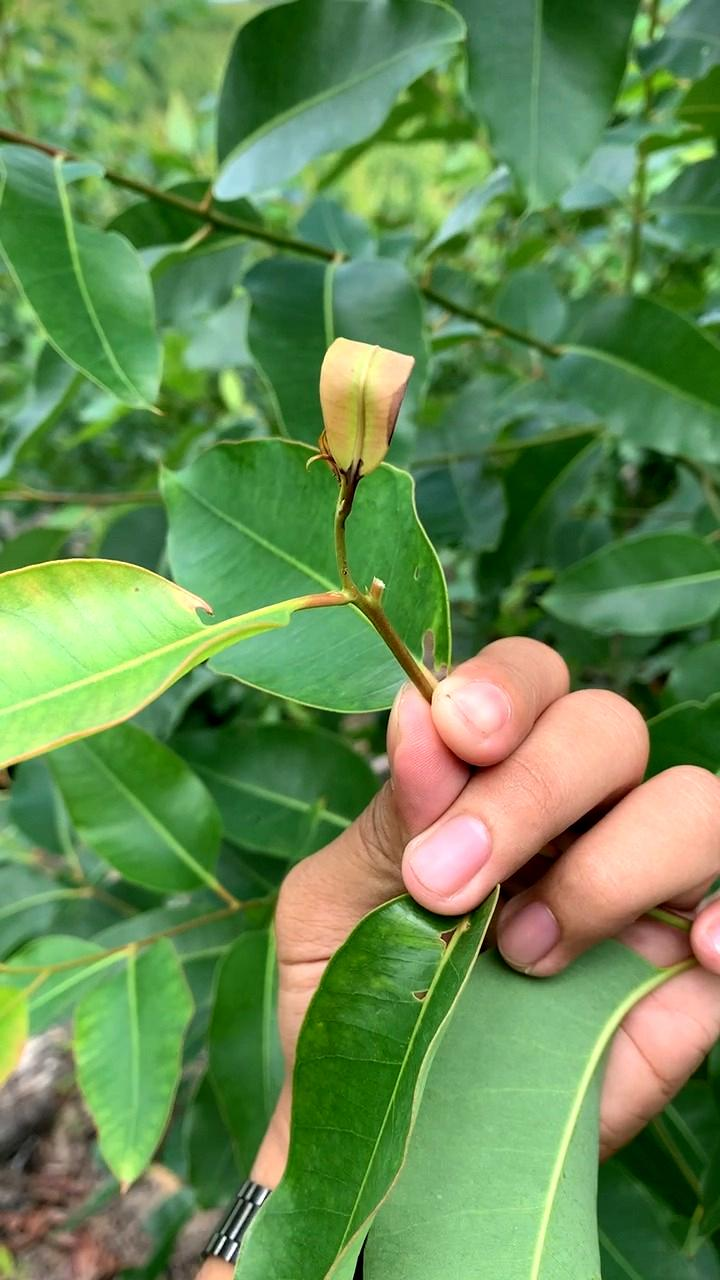Helopeltis-Withered Sprout: (316, 320, 411, 496)
